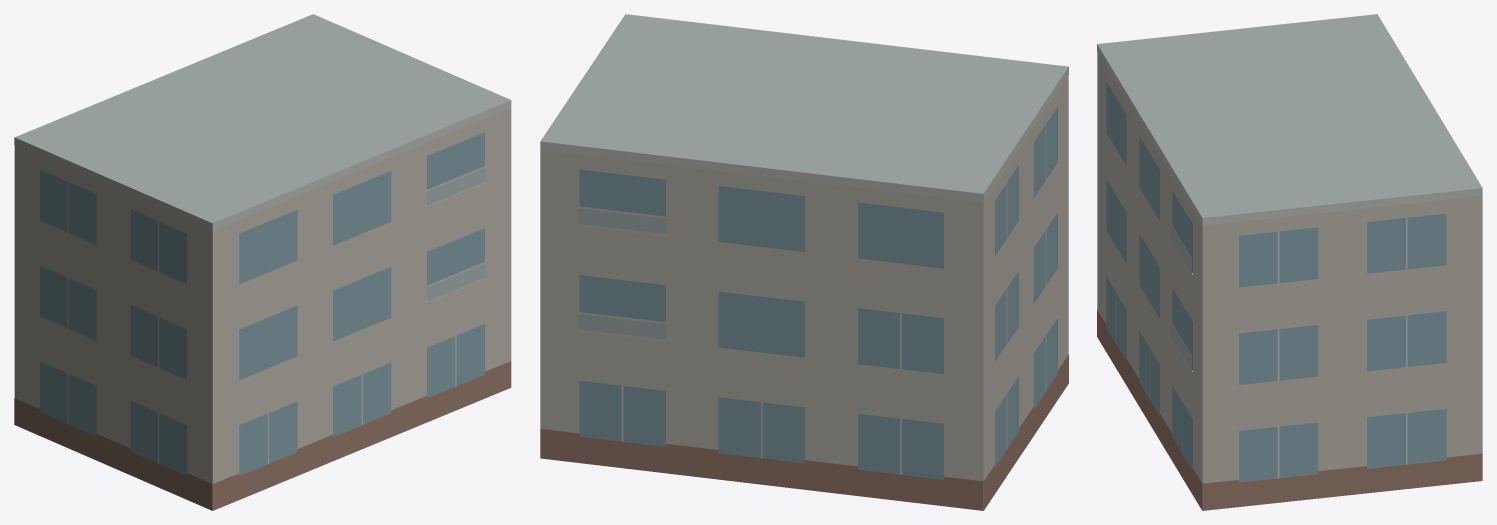
The model's file is survey-upis-32716202.glb.
The picture shows the model from 3 angles, left to right: view 1: azimuth 30°, elevation 25°; view 2: azimuth 150°, elevation 25°; view 3: azimuth 270°, elevation 25°; orthographic projection. The views are drawn at different scales.
Parts seen in each view (by area): view 1: survey-upis-32716202.tmp; view 2: survey-upis-32716202.tmp; view 3: survey-upis-32716202.tmp.
Boxes of the visible parts, left/top/right/bottom form: survey-upis-32716202.tmp: left=14, top=14, right=511, bottom=510; survey-upis-32716202.tmp: left=540, top=14, right=1068, bottom=510; survey-upis-32716202.tmp: left=1097, top=14, right=1482, bottom=510.
Size of the model in its own units: 13.69 by 9.15 by 10.93.
